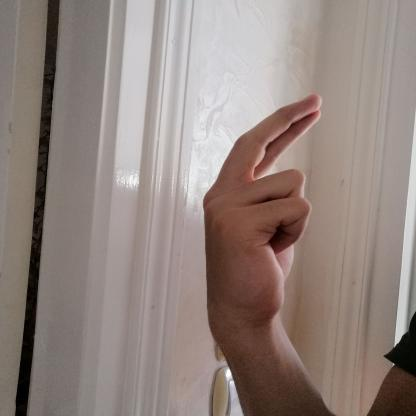ZAY: (188, 85, 337, 336)
